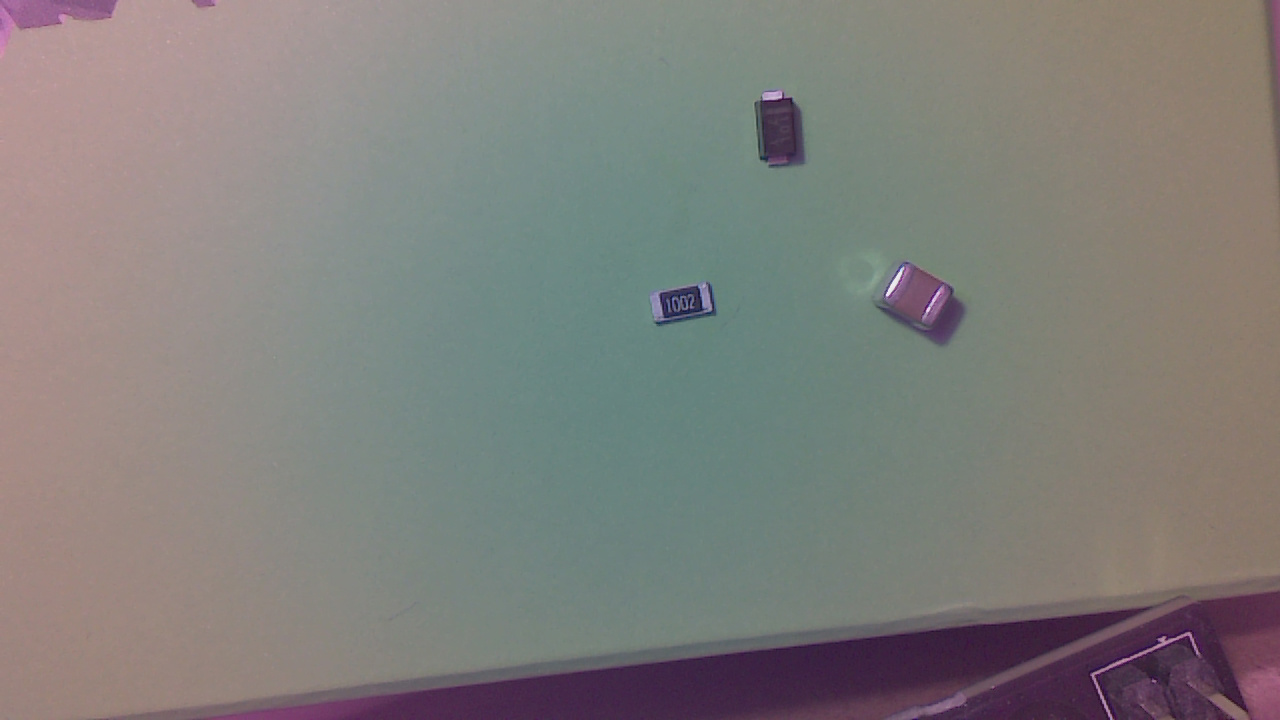Condensator: (882, 267, 960, 344)
Diode: (759, 93, 803, 172)
Resistor: (652, 284, 720, 334)
